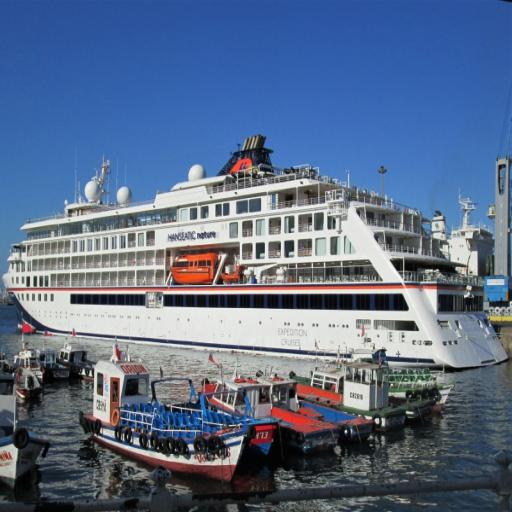cruises: (5, 142, 506, 370)
